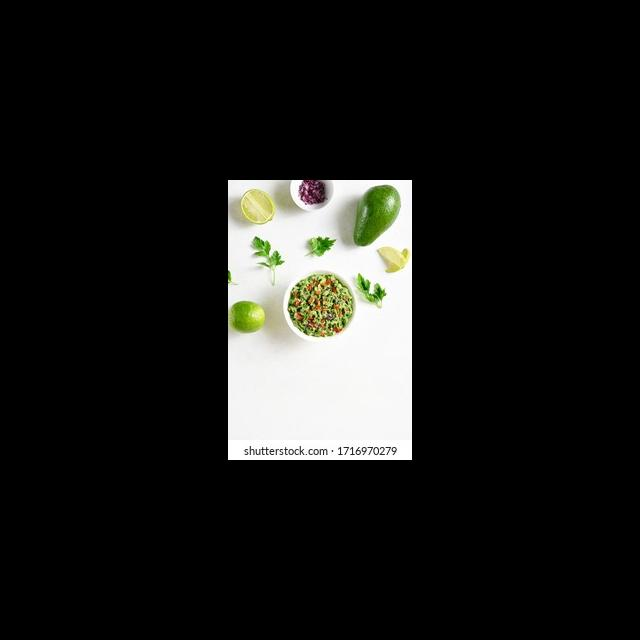lime: (228, 297, 266, 336)
